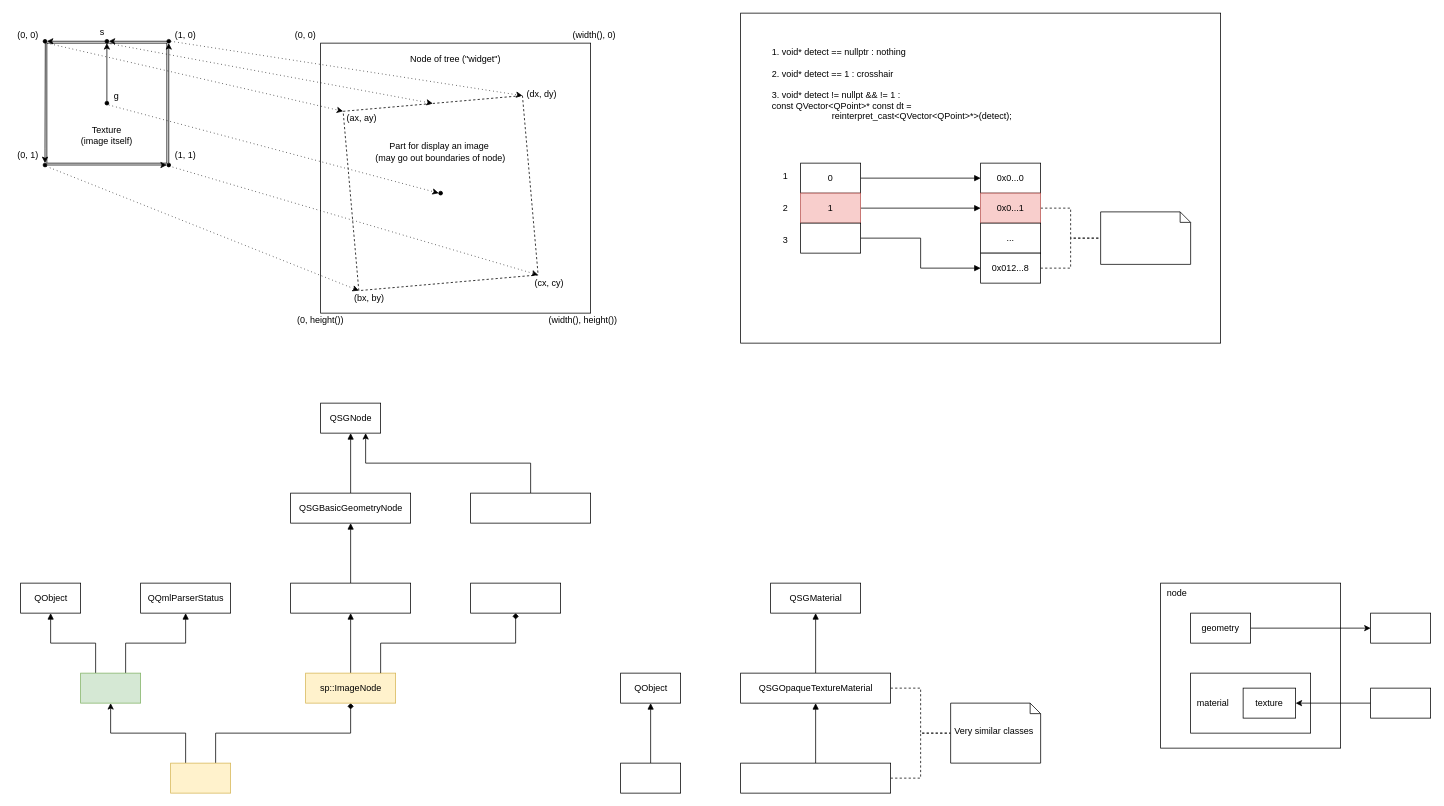
The diagram is 1444 pixels wide and 806 high, and some of its shapes have lost their labels. The shapes that lost their labels are listed below. From the top down, each one's centre as x and y in pixels, then its label:
At point 830,237: "another address".
At point 1145,237: "May be the same!!!".
At point 530,507: "QSGTransformNode".
At point 350,597: "QSGGeometryNode".
At point 515,597: "QSGGeometry".
At point 1400,627: "vertices".
At point 110,687: "QQuickItem".
At point 1400,702: "image".
At point 200,777: "sp::Image".
At point 650,777: "QSGTexture".
At point 815,777: "QSGTextureMaterial".
